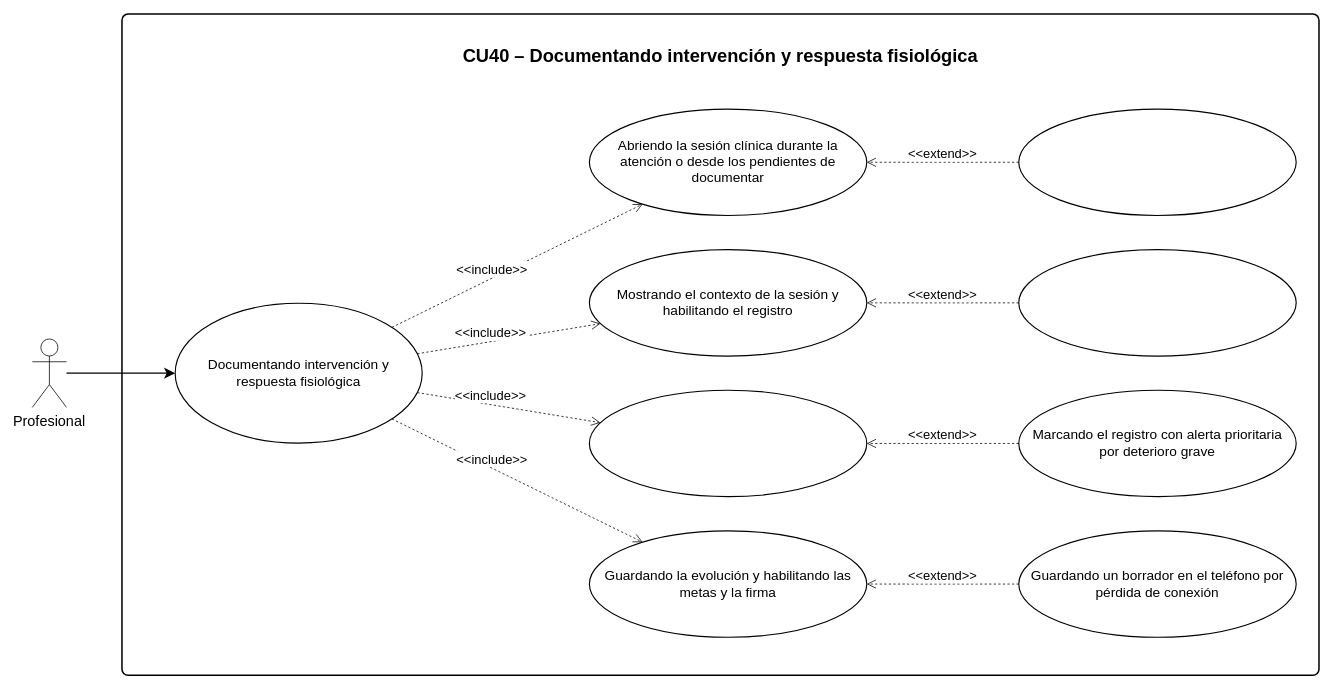
Some shapes in this 1333 by 689 pixel diagram are drawn without their labels. The shapes that lost their labels are listed below. From the top down, each one's box as (x1, y1, x2, y2) in pixels, then its label:
(1018, 108, 1296, 216): Mostrando la sesión en solo lectura sin atención en curso ni pendiente
(1018, 249, 1296, 356): Utilizando plantilla genérica de registro
(588, 389, 867, 497): Escribiendo las técnicas y la respuesta del paciente y guardando
